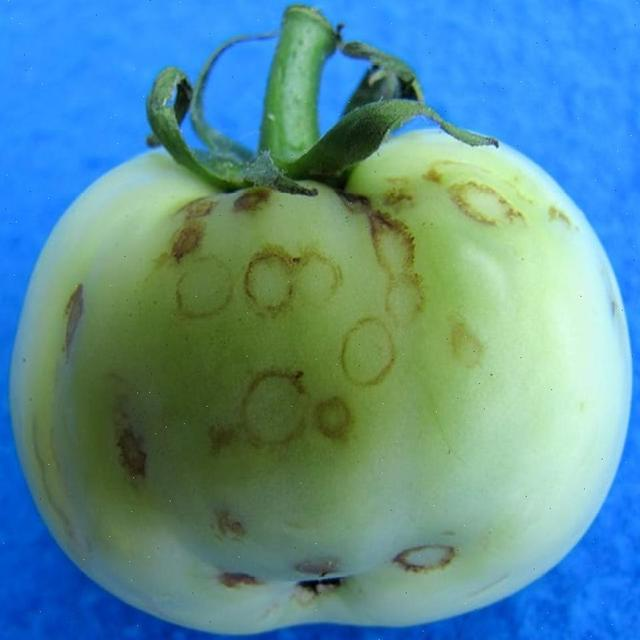Spotted wilt Virus Fruit: (146, 39, 380, 151)
